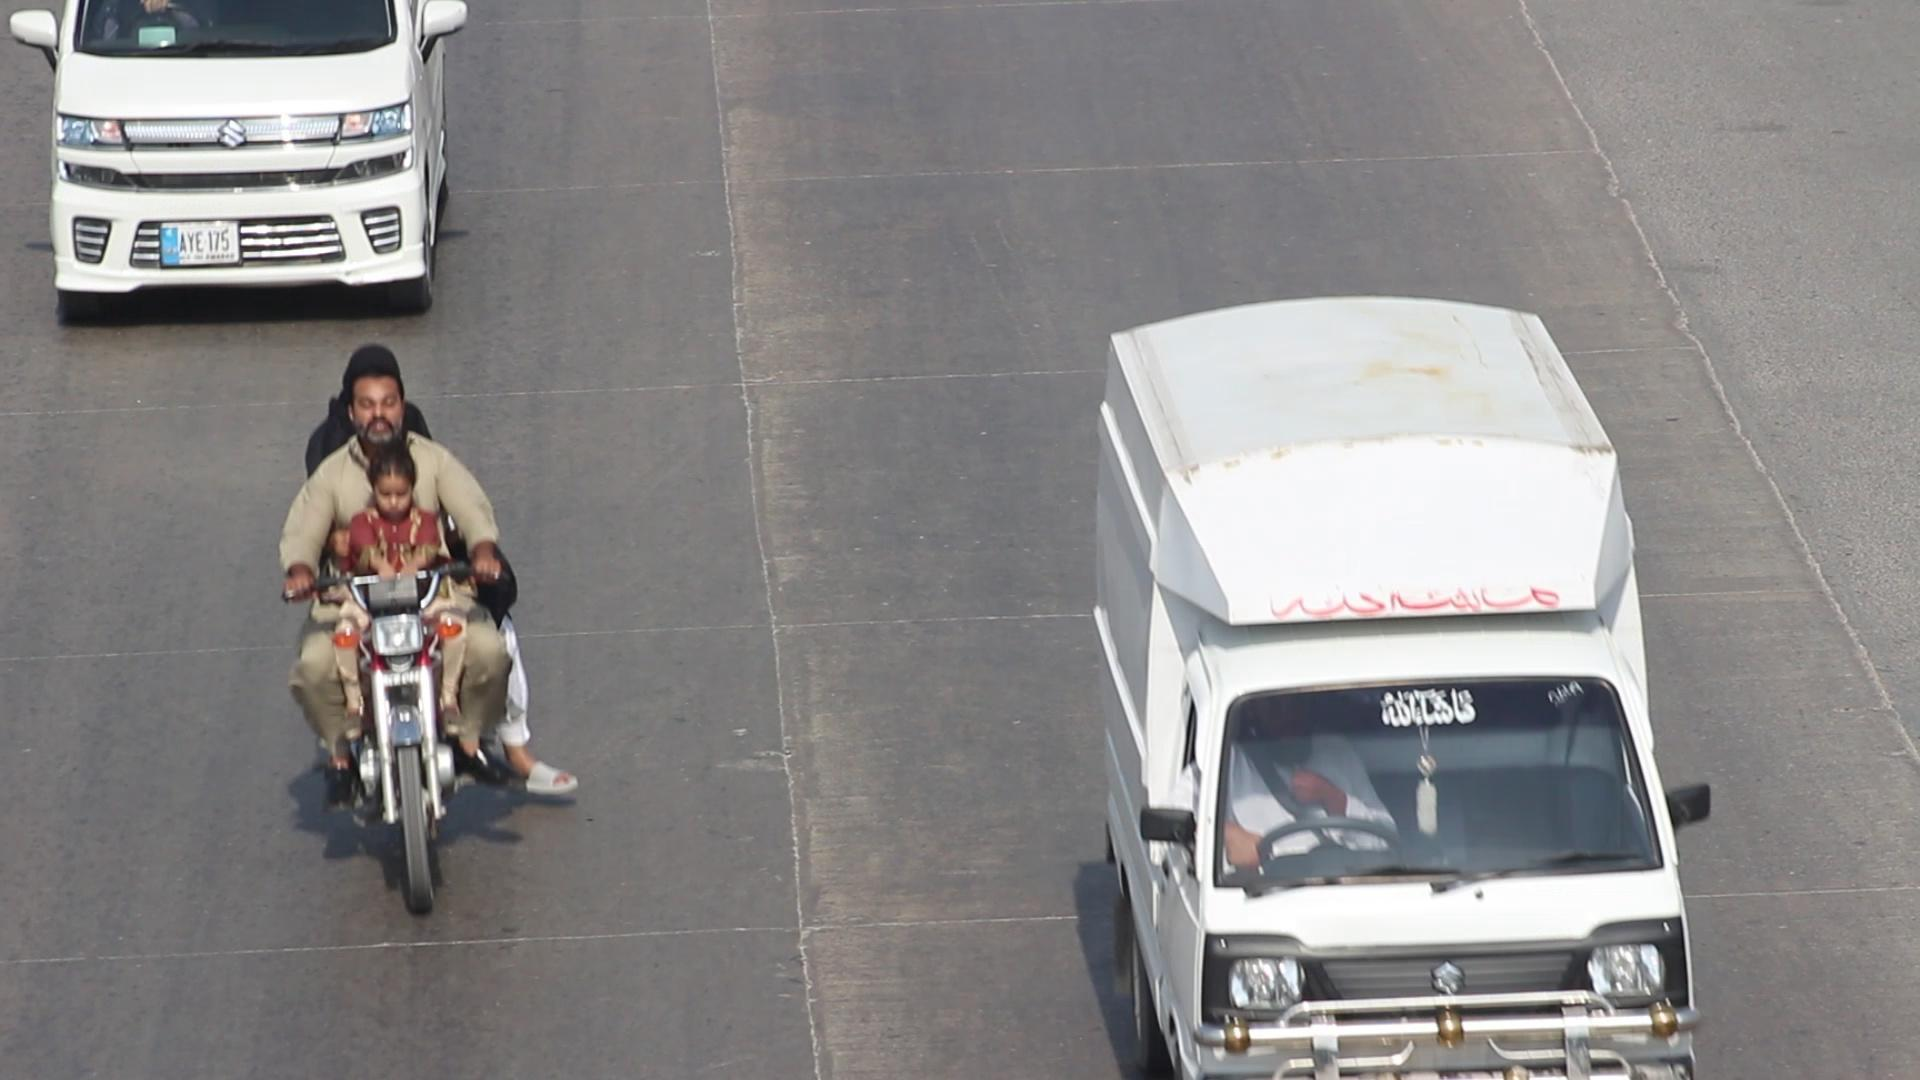windshield: (1204, 667, 1680, 914)
